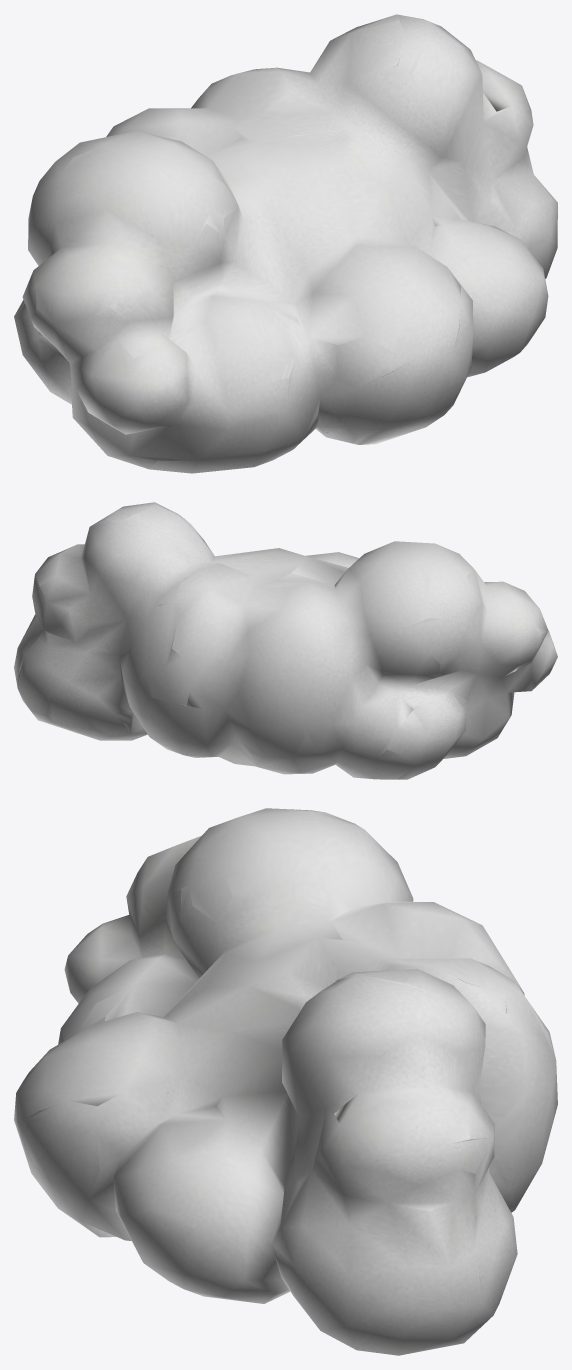
The model's file is alps-cloud.glb.
3 renders of one model, top to bottom at view 1: azimuth 30°, elevation 25°; view 2: azimuth 150°, elevation 25°; view 3: azimuth 270°, elevation 25°, orthographic. The views are drawn at different scales.
Visible parts, largest first — view 1: tripo_node_3d307d40-318e-4f5f-a2d4-b46daac79027; view 2: tripo_node_3d307d40-318e-4f5f-a2d4-b46daac79027; view 3: tripo_node_3d307d40-318e-4f5f-a2d4-b46daac79027.
Part boxes in pixels (<box>): tripo_node_3d307d40-318e-4f5f-a2d4-b46daac79027: <box>14,14,557,473</box>; tripo_node_3d307d40-318e-4f5f-a2d4-b46daac79027: <box>14,502,557,779</box>; tripo_node_3d307d40-318e-4f5f-a2d4-b46daac79027: <box>14,808,557,1355</box>.
Size of the model in its own units: 1 by 0.4773 by 0.7045.
1 material, 1 textured.
